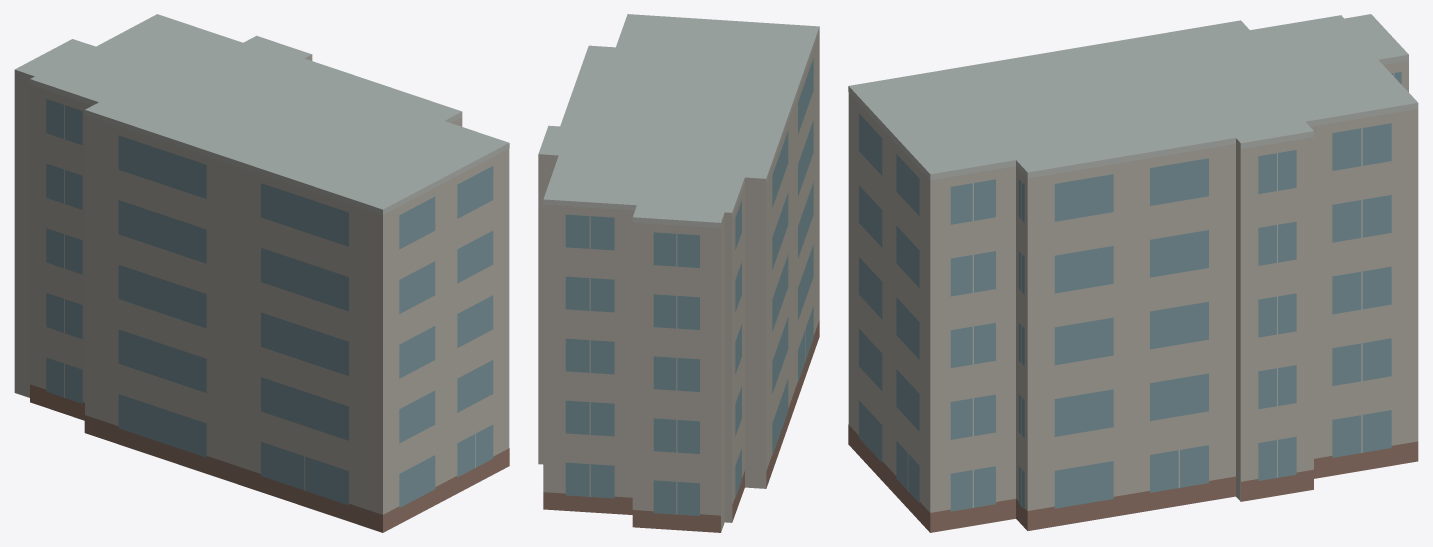
File: survey-upis-32619150.glb
3 renders of one model, left to right at view 1: azimuth 30°, elevation 25°; view 2: azimuth 150°, elevation 25°; view 3: azimuth 270°, elevation 25°, orthographic. The views are drawn at different scales.
Parts seen in each view (by area): view 1: survey-upis-32619150.tmp; view 2: survey-upis-32619150.tmp; view 3: survey-upis-32619150.tmp.
Boxes of the visible parts, x1,y1,x2,y2 form: survey-upis-32619150.tmp: (14, 14, 509, 532); survey-upis-32619150.tmp: (538, 14, 819, 532); survey-upis-32619150.tmp: (848, 14, 1418, 532).
Bounding box in the file's own units: 13.91 × 14.5 × 20.89.
